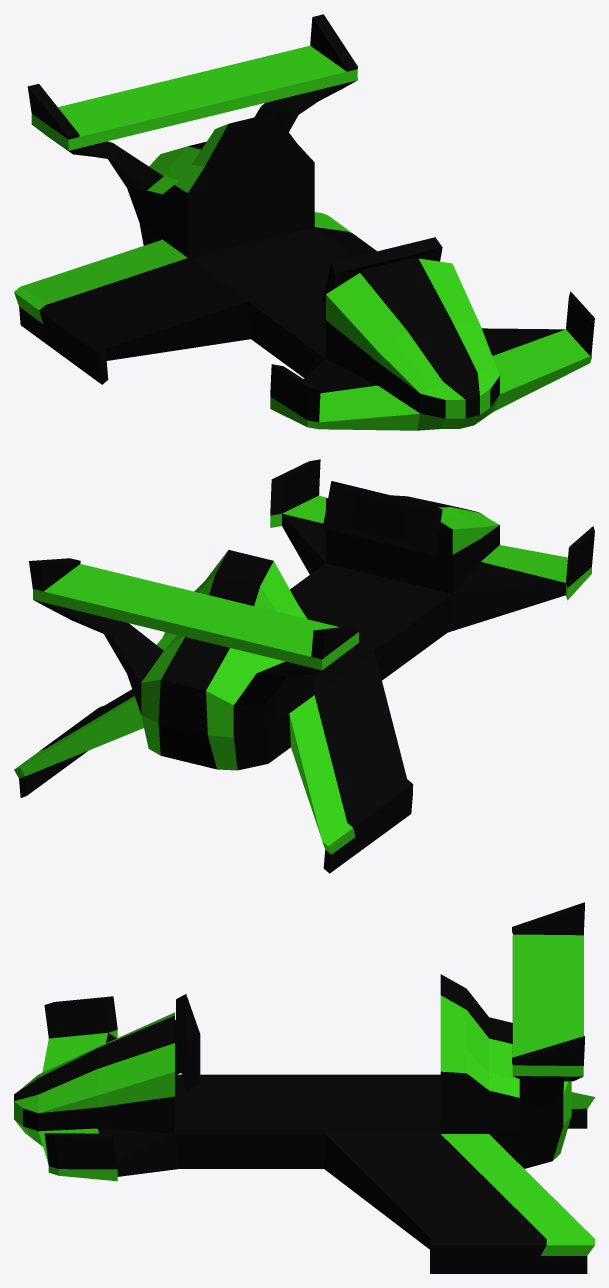
File: F1_Air.fbx
The picture shows the model from 3 angles, top to bottom: view 1: azimuth 30°, elevation 25°; view 2: azimuth 150°, elevation 25°; view 3: azimuth 270°, elevation 25°; orthographic projection. The views are drawn at different scales.
Visible parts, largest first — view 1: F1_Ground_Air; view 2: F1_Ground_Air; view 3: F1_Ground_Air.
Part boxes in pixels (x1,y1,x2,y2): F1_Ground_Air: (14, 14, 594, 430); F1_Ground_Air: (14, 459, 594, 873); F1_Ground_Air: (14, 902, 594, 1273).
Bounding box in the file's own units: 95.94 × 160 × 69.48.
